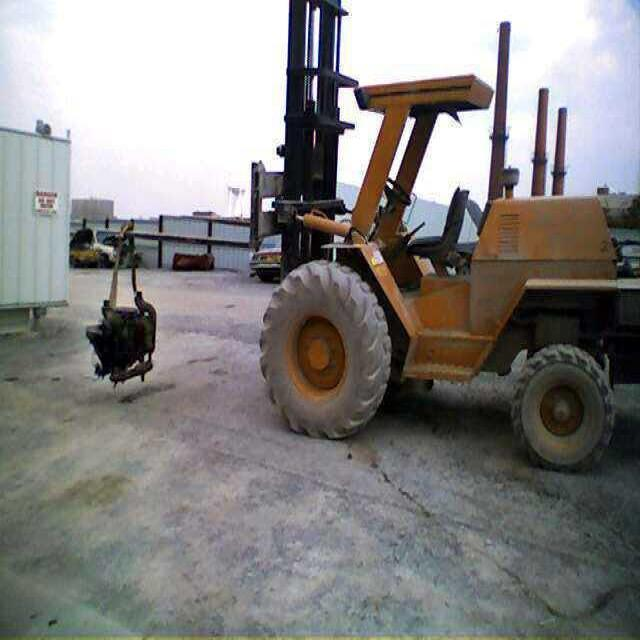Chariot elevateur: (94, 1, 639, 452)
